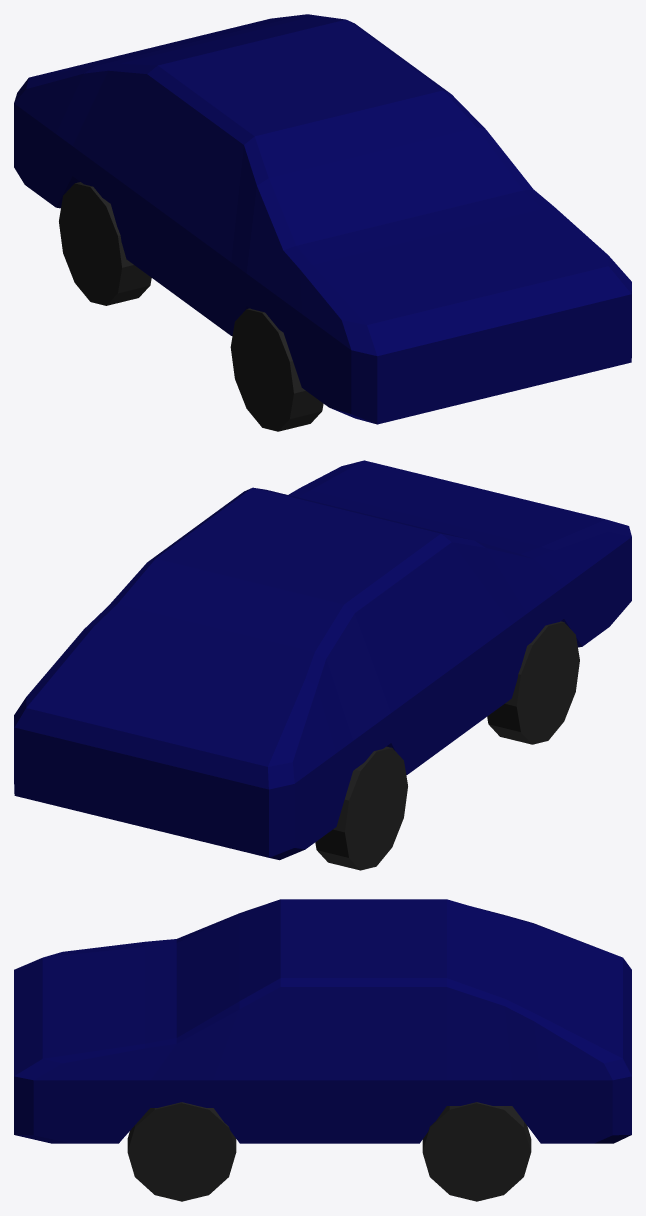
Rendered from Car02.fbx.
The picture shows the model from 3 angles, top to bottom: view 1: azimuth 30°, elevation 25°; view 2: azimuth 150°, elevation 25°; view 3: azimuth 270°, elevation 25°; orthographic projection. The views are drawn at different scales.
Visible parts, largest first — view 1: polySurface1, polySurface2, polySurface3; view 2: polySurface1, polySurface3, polySurface2; view 3: polySurface1, polySurface5, polySurface4.
Boxes of the visible parts, x1,y1,x2,y2 form: polySurface1: [14, 14, 631, 424]; polySurface2: [230, 308, 323, 431]; polySurface3: [59, 182, 151, 305]; polySurface1: [14, 460, 631, 860]; polySurface3: [315, 746, 407, 870]; polySurface2: [487, 621, 579, 744]; polySurface1: [14, 899, 631, 1143]; polySurface5: [422, 1102, 531, 1201]; polySurface4: [127, 1102, 236, 1201].
Size of the model in its own units: 4.68 by 3.71 by 10.21.
